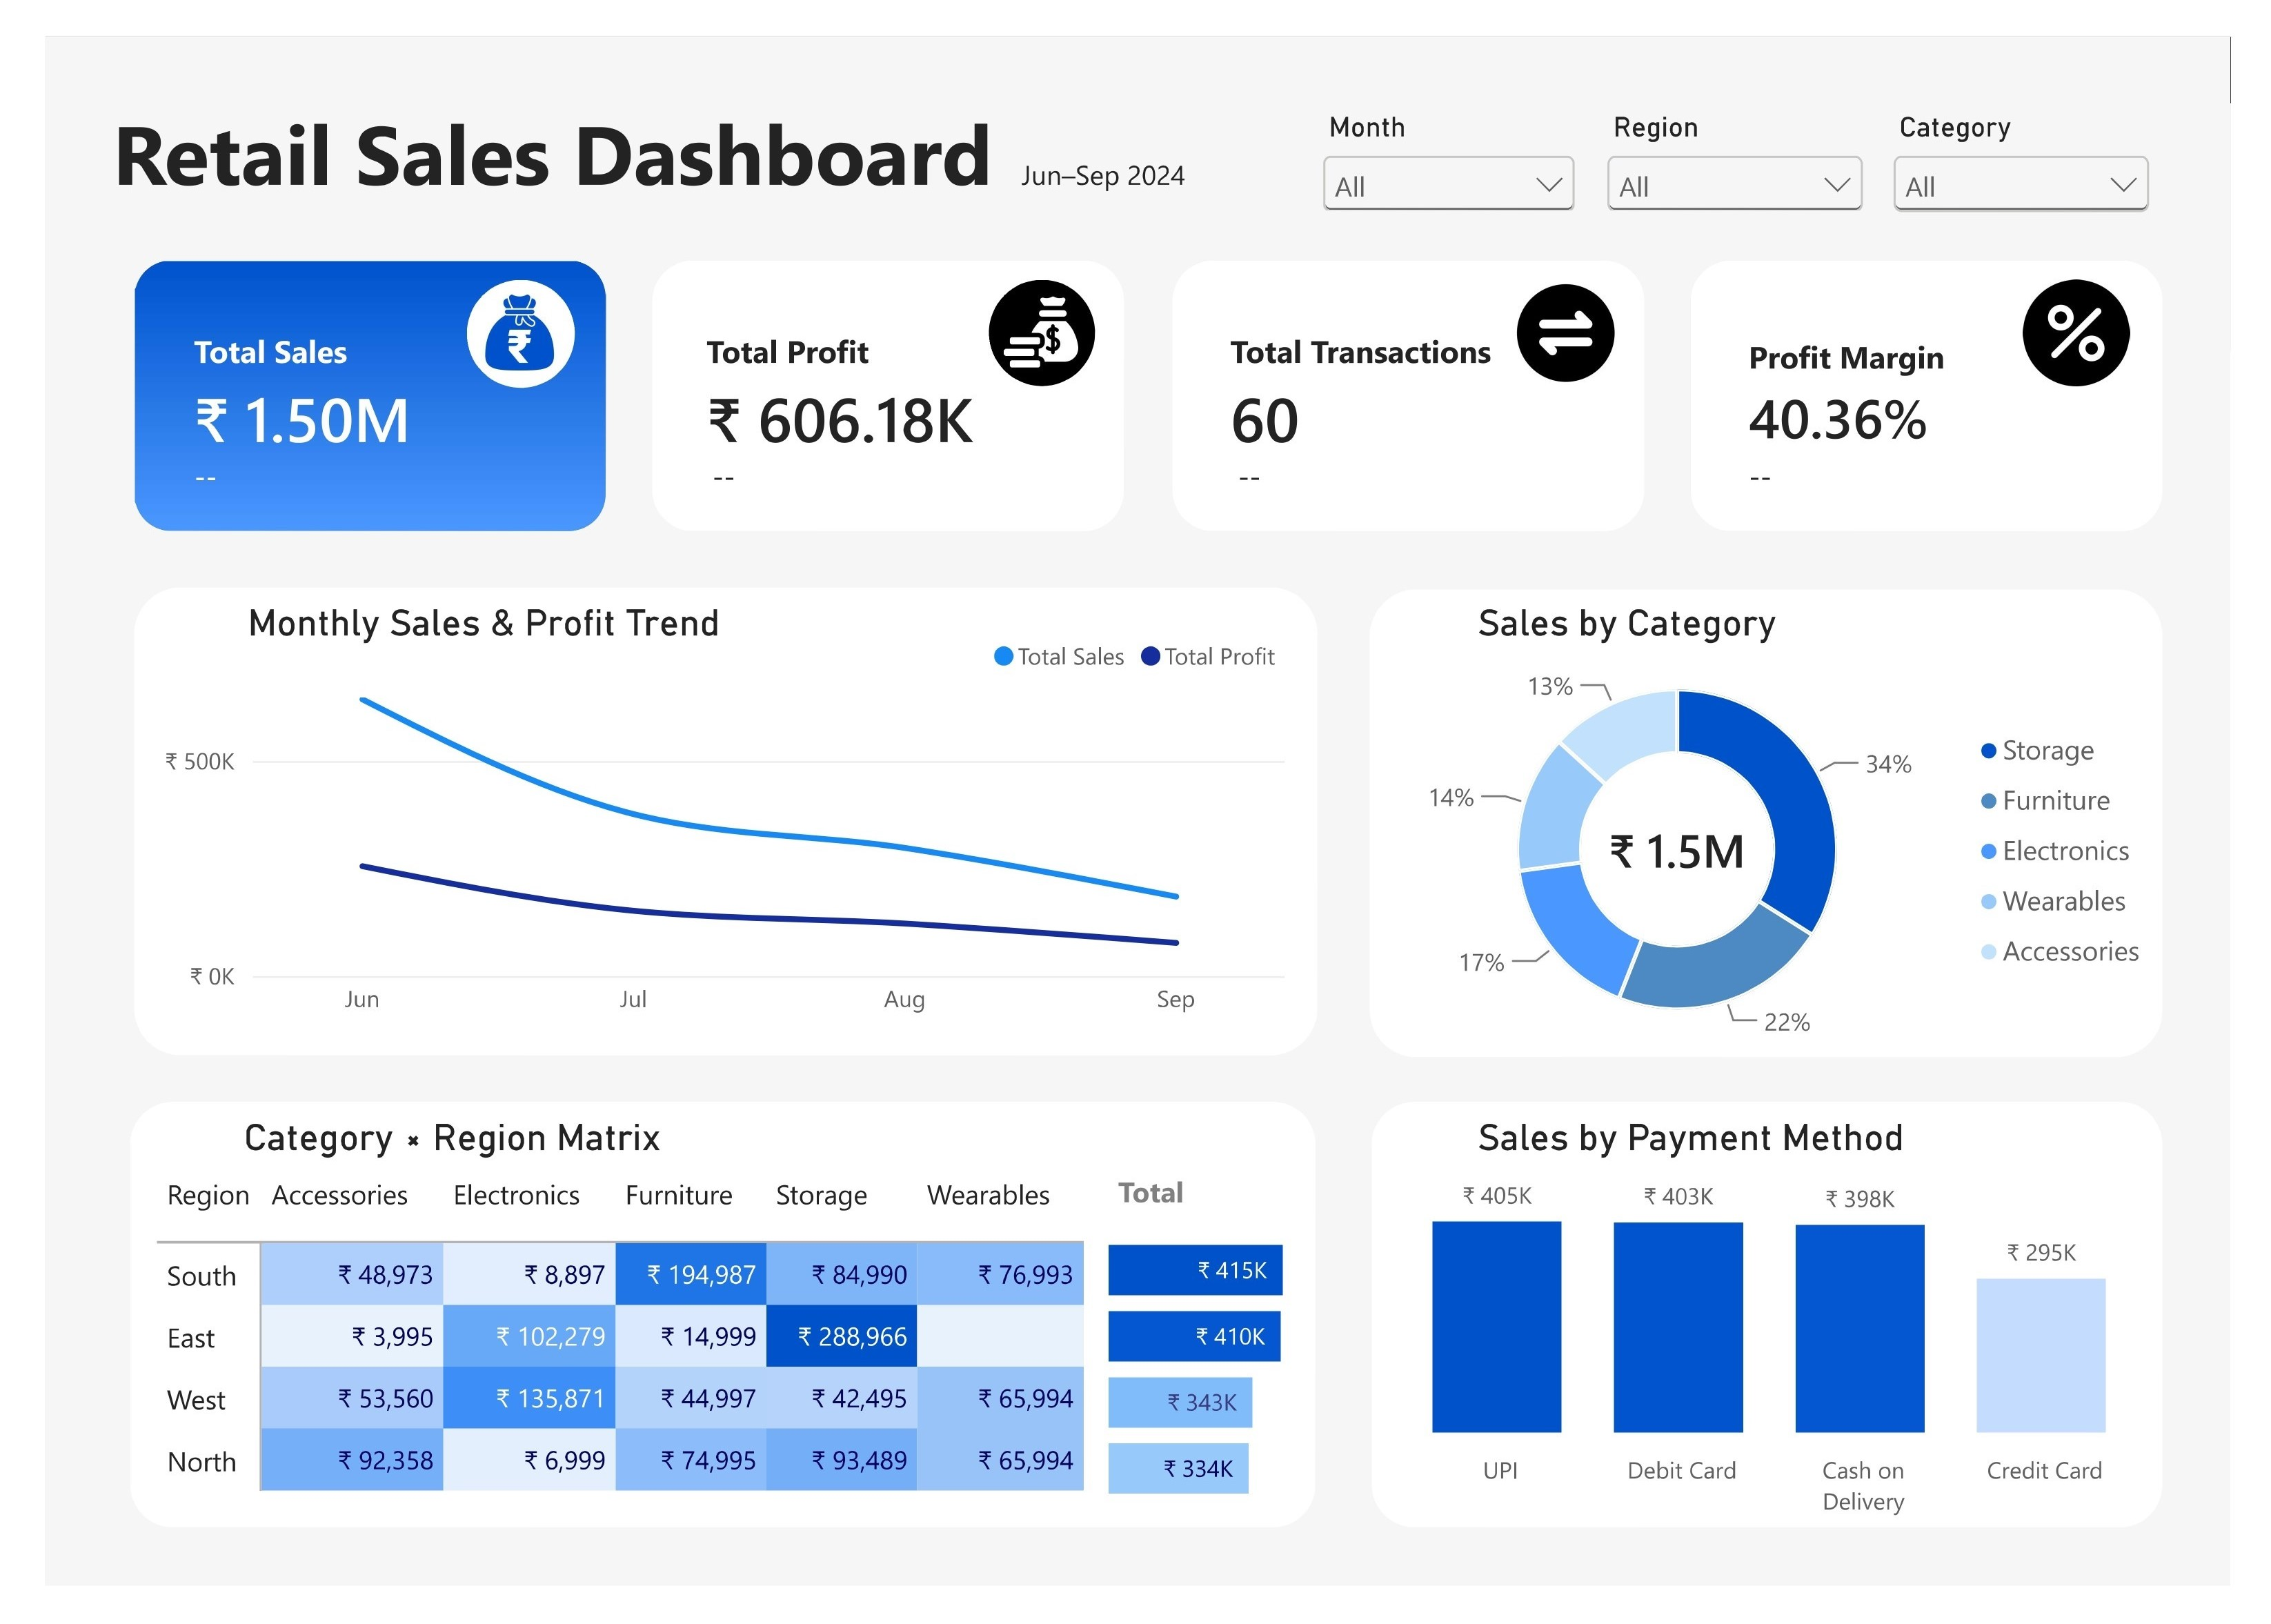

This screenshot's page, from the dashboard's own definition file:
{"tool":"powerbi","page":{"name":"Page 1","canvas":[1130,800],"ordinal":0},"visuals":[{"type":"shape","box":[217.9,125.5,55.7,55.7],"z":0,"group":"g1"},{"type":"shape","box":[488.3,125.5,55,55],"z":0,"group":"g2"},{"type":"shape","box":[686.3,550.1,408.7,220],"z":0},{"type":"shape","box":[44.3,550.1,613.1,219.7],"z":1000},{"type":"shape","box":[313.8,115,244,140.5],"z":2000},{"type":"shape","box":[582.8,115,244,140.5],"z":3000},{"type":"shape","box":[850.7,115,244,140.5],"z":4000},{"type":"shape","box":[45.9,284,611.9,241.7],"z":5000},{"type":"shape","box":[685.2,285.2,409.5,241.7],"z":6000},{"type":"textbox","box":[30.4,30.4,464.3,59.5],"z":7000},{"type":"image","box":[45.9,115,244,140],"z":8000},{"type":"clusteredColumnChart","fields":{"Category":["sales_data_cleaned.Payment Method"],"Y":["Sum(sales_data_cleaned.Sales Amount)"]},"box":[648,565,474.9,218],"z":9000},{"type":"lineChart","fields":{"Category":["sales_data_cleaned.Month"],"Y":["Sum(sales_data_cleaned.Sales Amount)","Sum(sales_data_cleaned.Profit)"]},"box":[44.6,291,612.9,234.6],"z":10000},{"type":"donutChart","fields":{"Category":["sales_data_cleaned.Category"],"Y":["Sum(sales_data_cleaned.Sales Amount)"]},"box":[672.7,291.2,436,258.9],"z":11000},{"type":"pivotTable","title":" Category x Region Performence Matrix","fields":{"Columns":["sales_data_cleaned.Category"],"Rows":["sales_data_cleaned.Region"],"Values":["Sum(sales_data_cleaned.Sales Amount)"]},"box":[42.3,567.5,514.6,206.4],"z":12000},{"type":"cardVisual","fields":{"Data":["sales_data_cleaned.Total Sales Amount"]},"box":[60.9,125.5,216.4,120],"z":13000},{"type":"cardVisual","fields":{"Data":["sales_data_cleaned.Total Profit"]},"box":[326.5,125.5,216.4,120],"z":14000},{"type":"cardVisual","fields":{"Data":["sales_data_cleaned.Total Transactions"]},"box":[597.5,125.5,216.4,120],"z":15000},{"type":"cardVisual","fields":{"Data":["sales_data_cleaned.Profit Margin"]},"box":[864.8,125.5,216.4,120],"z":16000},{"type":"slicer","fields":{"Values":["sales_data_cleaned.Month"]},"box":[656,38,140,50.9],"z":17000},{"type":"slicer","fields":{"Values":["sales_data_cleaned.Region"]},"box":[803,38,141.9,50.9],"z":18000},{"type":"slicer","fields":{"Values":["sales_data_cleaned.Category"]},"box":[951,38,141.9,56.4],"z":19000},{"type":"textbox","box":[741.1,557,245.5,30.9],"z":20000},{"type":"textbox","box":[103.2,557,245.5,29.1],"z":21000},{"type":"image","box":[759.3,125.5,55,55],"z":22000},{"type":"group","id":"g1","title":"Group 1","box":[217.9,125.5,55,55],"z":23000},{"type":"group","id":"g2","title":"Group 2","box":[488.3,125.5,54.6,54.6],"z":24000},{"type":"image","box":[1023.1,125,55,55],"z":25000},{"type":"textbox","box":[104.6,291,245.5,30.9],"z":26000},{"type":"textbox","box":[741.1,291,245.5,30.9],"z":27000},{"type":"image","box":[224.7,133.6,41.2,38.5],"z":28000,"group":"g1"},{"type":"image","box":[495,133.6,40.7,38.3],"z":28000,"group":"g2"},{"type":"clusteredBarChart","fields":{"Category":["sales_data_cleaned.Region"],"Y":["Sum(sales_data_cleaned.Sales Amount)"]},"box":[534.4,602,121.7,168],"z":28000},{"type":"cardVisual","fields":{"Data":["sales_data_cleaned.Sales MoM Label"]},"box":[77,210,160,30],"z":29000},{"type":"cardVisual","fields":{"Data":["sales_data_cleaned.Profit MoM Label"]},"box":[345,210.3,160,30],"z":30000},{"type":"cardVisual","fields":{"Data":["sales_data_cleaned.Transactions MoM Label"]},"box":[617,210.3,160,30],"z":31000},{"type":"cardVisual","fields":{"Data":["sales_data_cleaned.Profit Margin MoM Label"]},"box":[881,210.3,160,30],"z":32000},{"type":"textbox","box":[505.3,60.8,101.9,25.1],"z":32001},{"type":"textbox","box":[555,586,42,25.1],"z":32002}]}

Visuals, with their boxes in screenshot pixels (x1, y1, x2, y2), scaled from the page's 1130x800 canvas onto the 2271x1624 screenshot:
shape: <region>438, 255, 550, 368</region>
shape: <region>982, 255, 1092, 366</region>
shape: <region>1379, 1117, 2201, 1563</region>
shape: <region>89, 1117, 1321, 1563</region>
shape: <region>631, 233, 1121, 519</region>
shape: <region>1171, 233, 1662, 519</region>
shape: <region>1709, 233, 2200, 519</region>
shape: <region>92, 577, 1322, 1067</region>
shape: <region>1377, 579, 2200, 1069</region>
textbox: <region>61, 61, 994, 183</region>
image: <region>92, 233, 583, 517</region>
clusteredColumnChart - sales_data_cleaned.Payment Method x Sum(sales_data_cleaned.Sales Amount): <region>1302, 1147, 2257, 1590</region>
lineChart - sales_data_cleaned.Month x Sum(sales_data_cleaned.Sales Amount): <region>90, 591, 1321, 1067</region>
donutChart - sales_data_cleaned.Category x Sum(sales_data_cleaned.Sales Amount): <region>1352, 591, 2228, 1117</region>
" Category x Region Performence Matrix" pivotTable: <region>85, 1152, 1119, 1571</region>
cardVisual - sales_data_cleaned.Total Sales Amount: <region>122, 255, 557, 498</region>
cardVisual - sales_data_cleaned.Total Profit: <region>656, 255, 1091, 498</region>
cardVisual - sales_data_cleaned.Total Transactions: <region>1201, 255, 1636, 498</region>
cardVisual - sales_data_cleaned.Profit Margin: <region>1738, 255, 2173, 498</region>
slicer - sales_data_cleaned.Month: <region>1318, 77, 1600, 181</region>
slicer - sales_data_cleaned.Region: <region>1614, 77, 1899, 181</region>
slicer - sales_data_cleaned.Category: <region>1912, 77, 2196, 192</region>
textbox: <region>1489, 1131, 1983, 1194</region>
textbox: <region>208, 1131, 701, 1190</region>
image: <region>1526, 255, 1636, 366</region>
"Group 1" group: <region>438, 255, 548, 366</region>
"Group 2" group: <region>982, 255, 1091, 366</region>
image: <region>2056, 254, 2167, 366</region>
textbox: <region>210, 591, 704, 653</region>
textbox: <region>1489, 591, 1983, 653</region>
image: <region>452, 271, 535, 349</region>
image: <region>995, 271, 1077, 349</region>
clusteredBarChart - sales_data_cleaned.Region x Sum(sales_data_cleaned.Sales Amount): <region>1074, 1222, 1318, 1563</region>
cardVisual - sales_data_cleaned.Sales MoM Label: <region>155, 426, 476, 487</region>
cardVisual - sales_data_cleaned.Profit MoM Label: <region>693, 427, 1015, 488</region>
cardVisual - sales_data_cleaned.Transactions MoM Label: <region>1240, 427, 1562, 488</region>
cardVisual - sales_data_cleaned.Profit Margin MoM Label: <region>1771, 427, 2092, 488</region>
textbox: <region>1015, 123, 1220, 175</region>
textbox: <region>1115, 1189, 1200, 1240</region>
